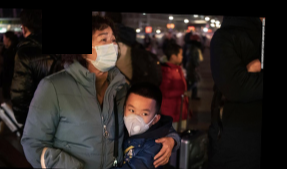with_mask: (88, 29, 119, 72), (123, 101, 153, 136)
without_mask: (175, 49, 184, 65)
